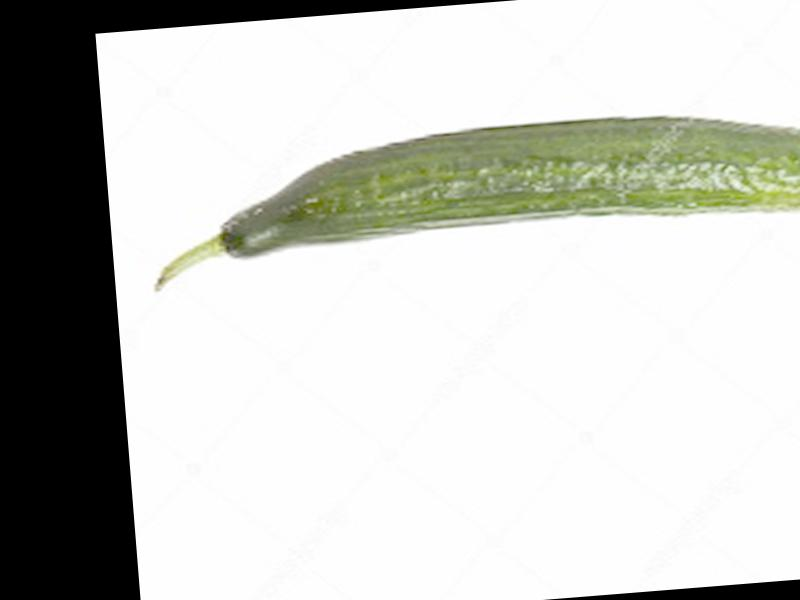Cucumber: (140, 100, 800, 291)
